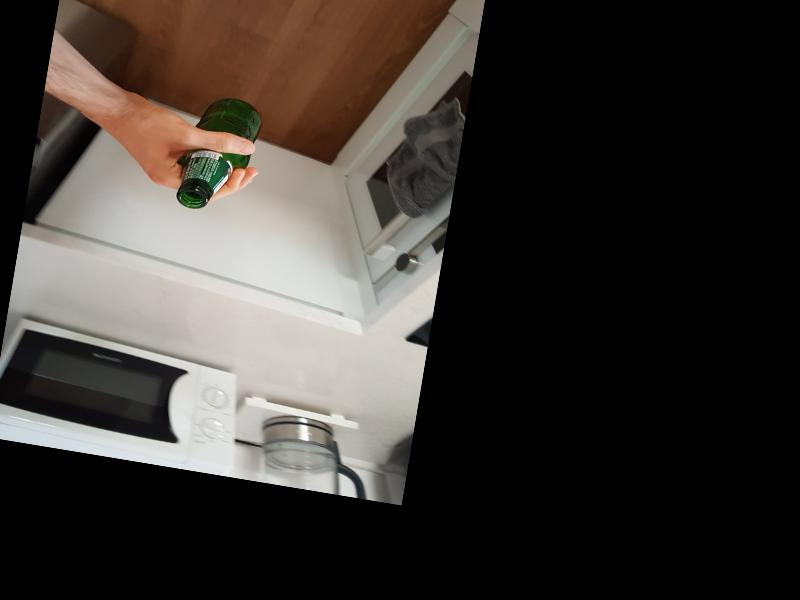Beer: (174, 91, 264, 215)
